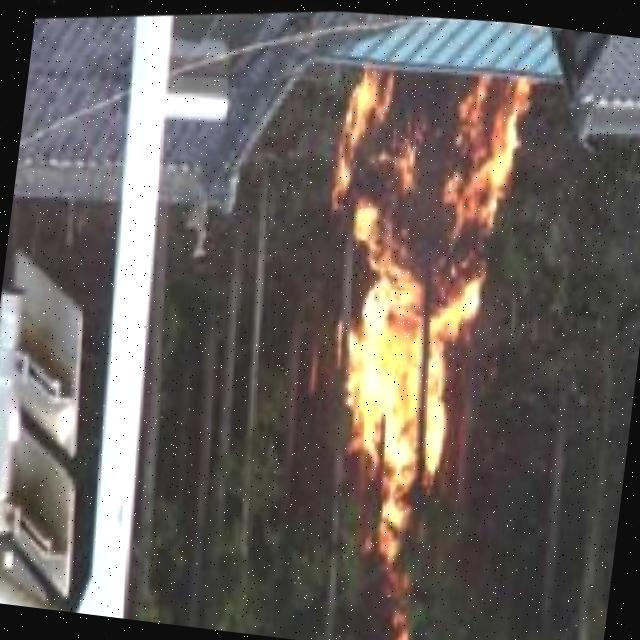fire: (278, 43, 562, 580)
